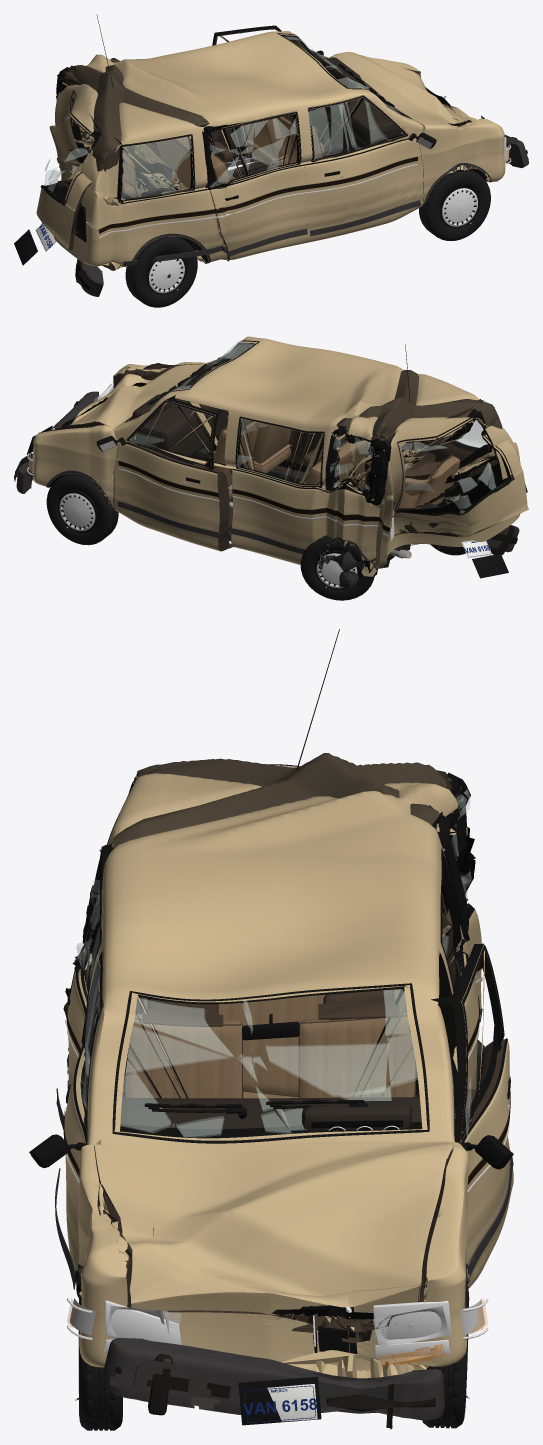
The model's file is minivan86_rear_corner_d2.glb.
The picture shows the model from 3 angles, top to bottom: view 1: azimuth 30°, elevation 25°; view 2: azimuth 150°, elevation 25°; view 3: azimuth 270°, elevation 25°; orthographic projection. The views are drawn at different scales.
Parts seen in each view (by area): view 1: Body, Door_FR, Interior, Door_SR, Liftgate, Glass, Hood, Wheel_FR_mesh, Wheel_RR_mesh, Trim, Trim_FR, Glass_FR (+7 smaller); view 2: Body, Interior, Door_FL, Liftgate, Trim, Wheel_FL_mesh, Glass, Hood, Wheel_RL_mesh, Trim_FL, Glass_Liftgate, Ends (+5 smaller); view 3: Body, Hood, Interior, Glass, Bumper_F, Ends, Door_FL, Trim_FL, Trim, Door_FR, Trim_FR, Wheel_FR_mesh (+6 smaller).
Part boxes in pixels (x1,y1,x2,y2): Body: (49,31,505,270); Door_FR: (304,95,423,242); Interior: (122,57,402,197); Door_SR: (204,111,306,259); Liftgate: (36,68,123,249); Glass: (57,33,411,202); Hood: (334,51,476,124); Wheel_FR_mesh: (419,169,490,240); Wheel_RR_mesh: (125,236,197,307); Trim: (56,14,491,267); Trim_FR: (304,95,436,236); Glass_FR: (308,95,404,162); Body: (33,336,520,578); Interior: (132,371,459,508); Door_FL: (113,395,229,551); Liftgate: (380,399,528,538); Trim: (46,344,489,577); Wheel_FL_mesh: (46,473,118,545); Glass: (125,340,487,504); Hood: (49,364,203,431); Wheel_RL_mesh: (300,535,374,600); Trim_FL: (96,400,234,548); Glass_Liftgate: (395,411,514,515); Ends: (26,382,527,578); Body: (67,753,481,1378); Hood: (94,1141,453,1342); Interior: (120,988,421,1130); Glass: (112,775,471,1143); Bumper_F: (102,1338,444,1429); Ends: (67,1298,488,1425); Door_FL: (431,943,513,1288); Trim_FL: (460,945,513,1275); Trim: (67,629,485,1336); Door_FR: (64,951,103,1285); Trim_FR: (29,952,102,1289); Wheel_FR_mesh: (74,1288,122,1430).
Bounding box in the file's own units: 4.58 × 2.34 × 2.04.
34 materials, 5 textured.
